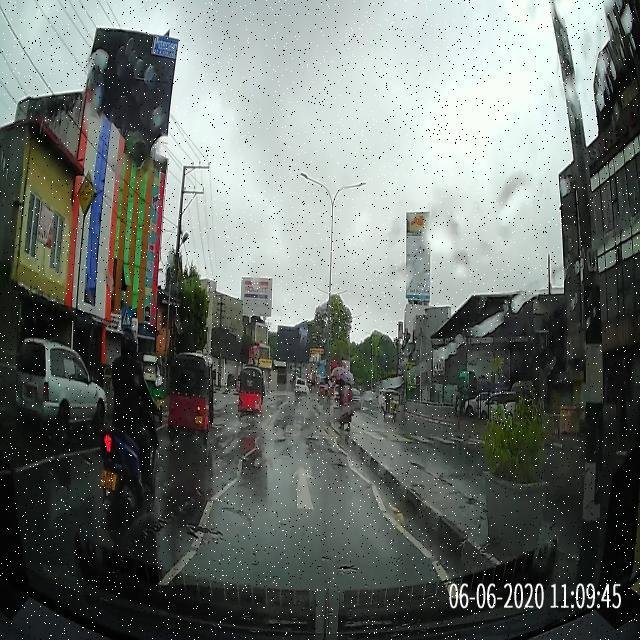forward: (203, 457, 389, 518)
